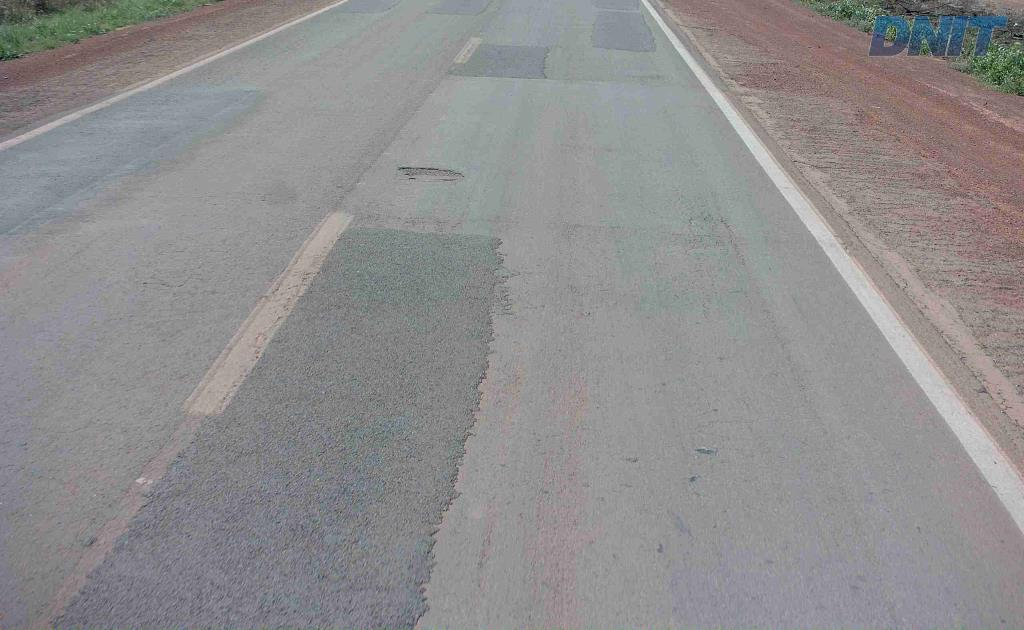pothole: (395, 162, 468, 186)
